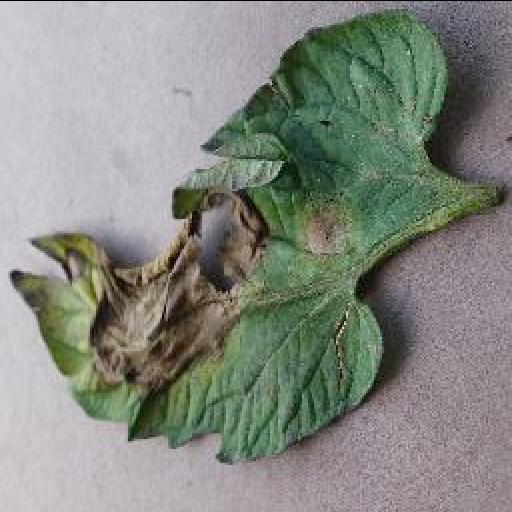disease_tomato: (4, 7, 450, 465)
